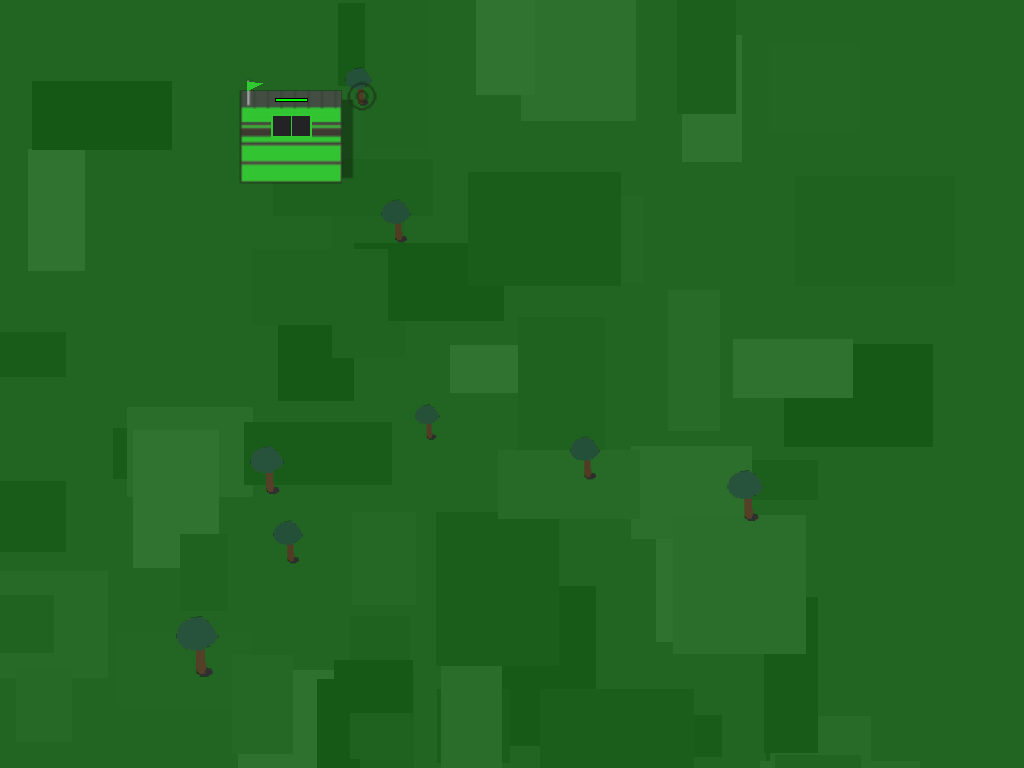Barracks: (230, 35, 353, 158)
